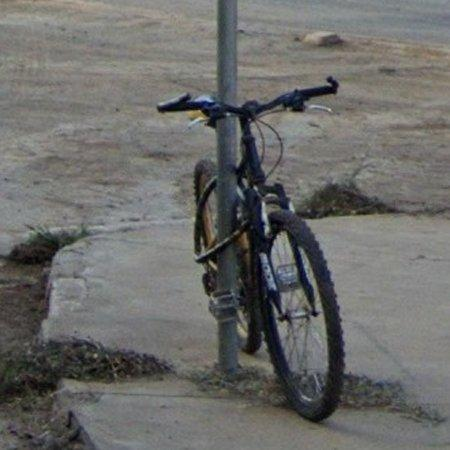bicycles: (158, 76, 345, 422)
